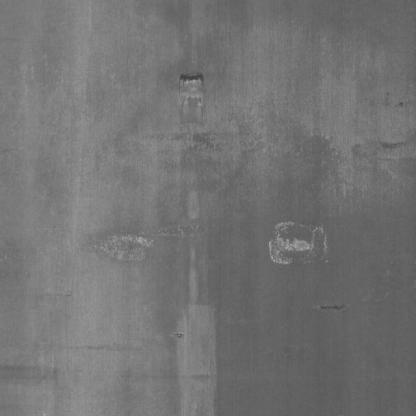rolled_pit: (92, 202, 217, 270), (169, 303, 223, 416), (367, 84, 411, 190), (268, 214, 336, 275), (175, 62, 212, 138), (312, 286, 363, 324)
